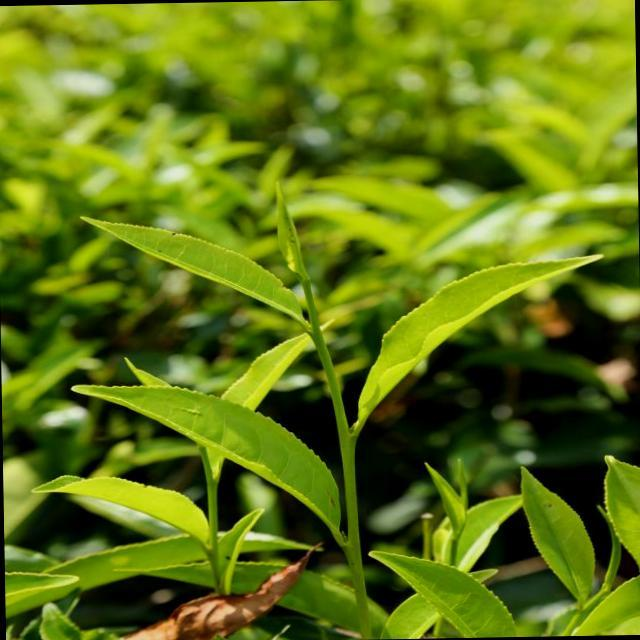Stem: (310, 330, 325, 345), (208, 480, 217, 493)
